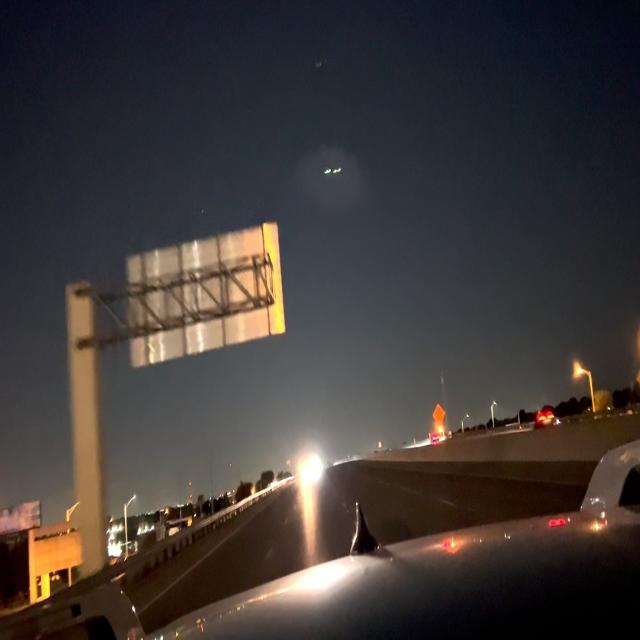back-of-sign: (123, 223, 287, 370)
